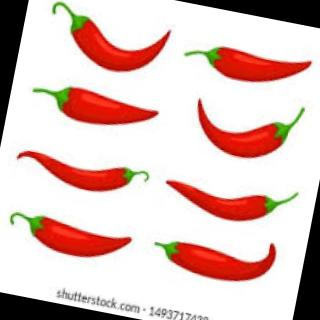Cabai Merah: (186, 90, 307, 169), (49, 8, 173, 82), (160, 171, 299, 235), (150, 223, 281, 290), (13, 144, 151, 202), (11, 208, 136, 267), (185, 37, 314, 93), (49, 81, 164, 138)
